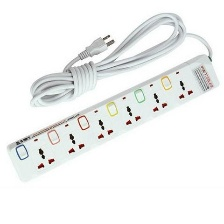three_eye_plug: (6, 52, 222, 186)
